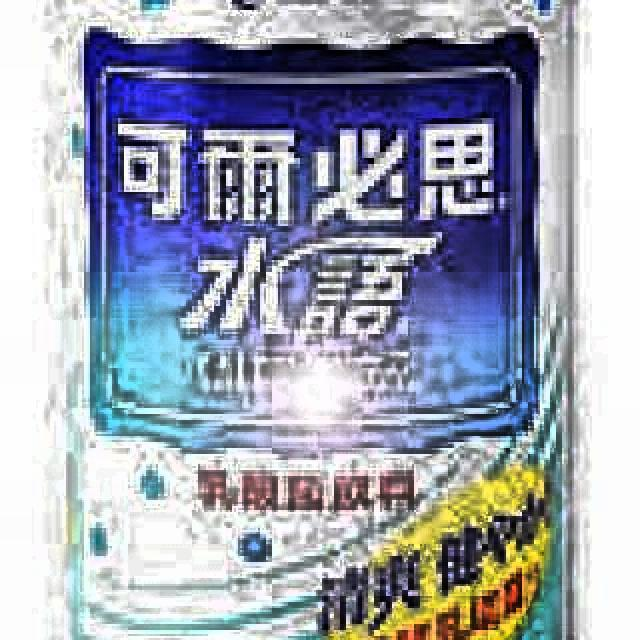metal: (52, 0, 594, 640)
